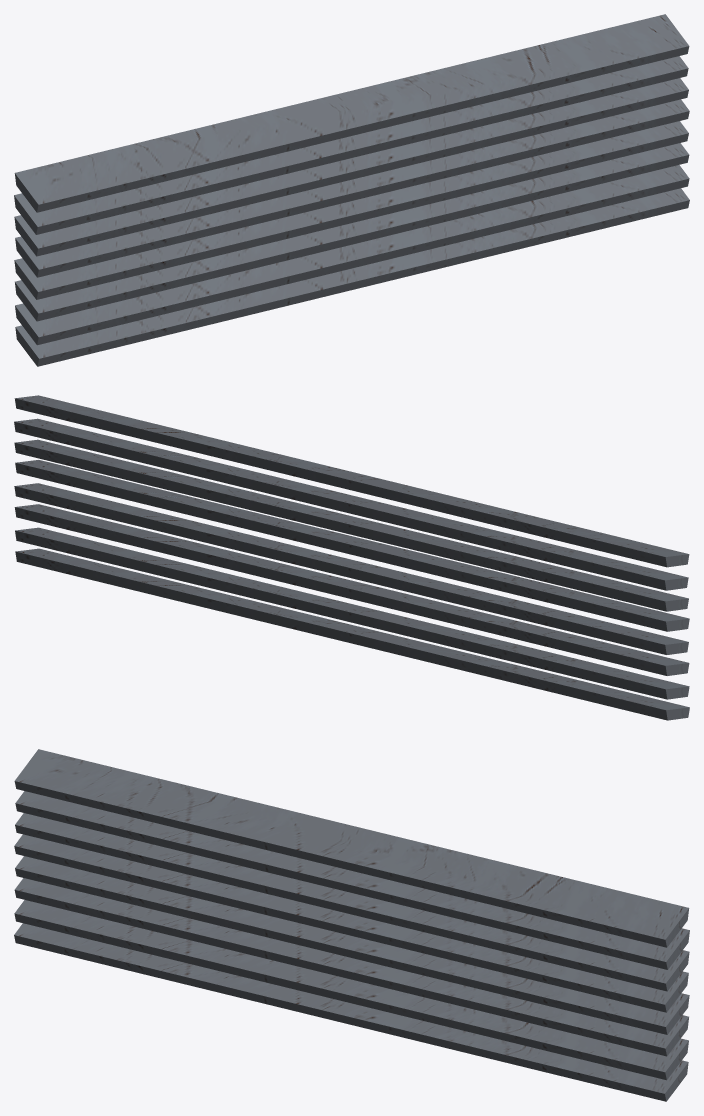
File: vent.fbx
3 renders of one model, top to bottom at view 1: azimuth 30°, elevation 25°; view 2: azimuth 150°, elevation 25°; view 3: azimuth 330°, elevation 25°, orthographic.
Parts seen in each view (by area): view 1: PVC5.002; view 2: PVC5.002; view 3: PVC5.002.
Part boxes in pixels (x1,y1,x2,y2): PVC5.002: (14,14,689,366); PVC5.002: (14,395,689,720); PVC5.002: (14,749,689,1101).
Bounding box in the file's own units: 139 × 36.14 × 9.29.
